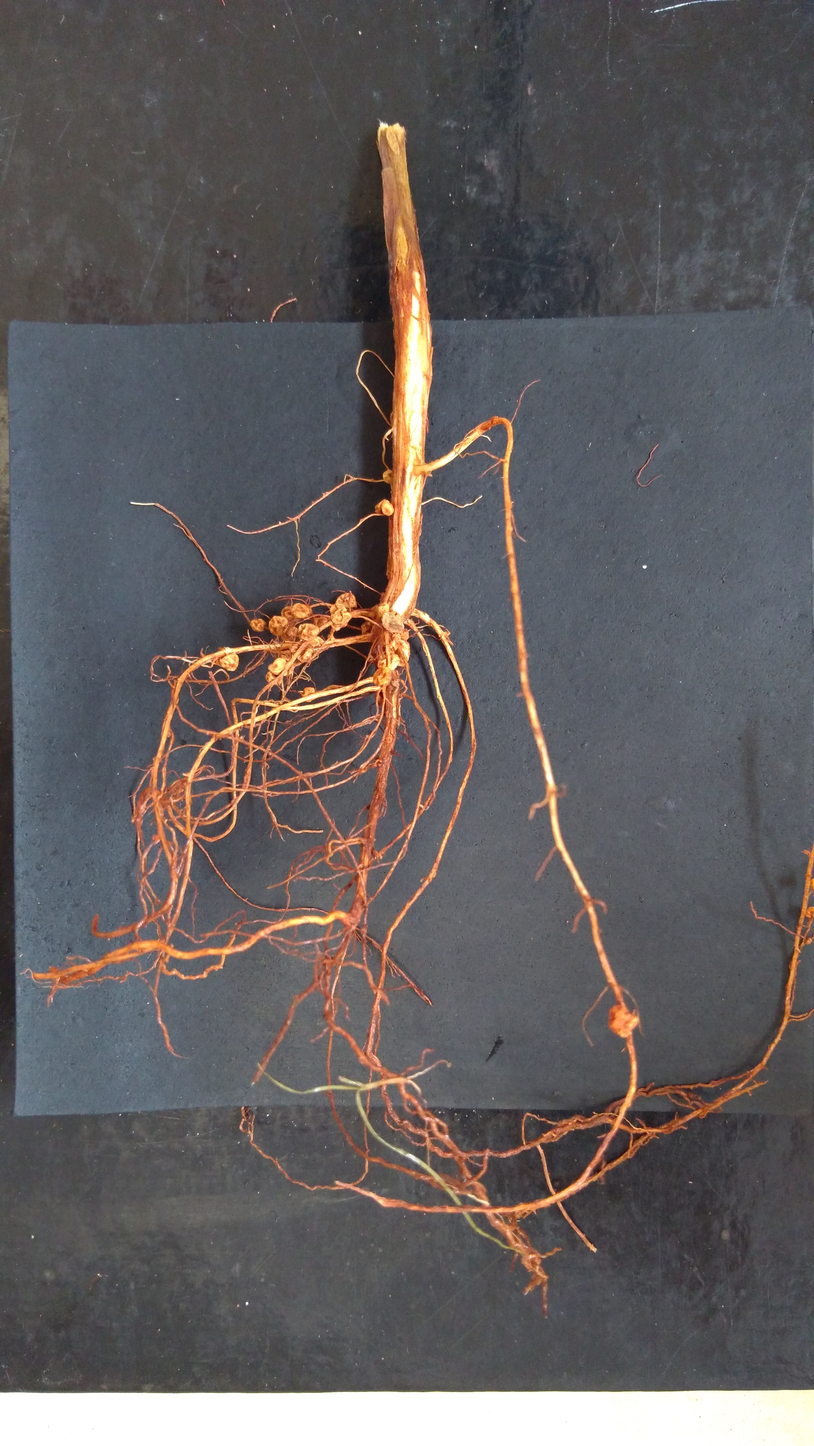nodule: (606, 1001, 641, 1041), (327, 602, 353, 631), (379, 609, 405, 636), (392, 637, 412, 670), (213, 652, 241, 672), (334, 590, 359, 612), (266, 657, 291, 678), (267, 615, 290, 637), (372, 666, 393, 689), (291, 602, 317, 620), (291, 641, 312, 663), (297, 622, 321, 641), (375, 653, 400, 671), (299, 685, 318, 705), (264, 671, 285, 688), (380, 468, 397, 486), (248, 617, 267, 633), (380, 499, 395, 517), (376, 602, 391, 618), (373, 498, 387, 515), (311, 635, 324, 648)
